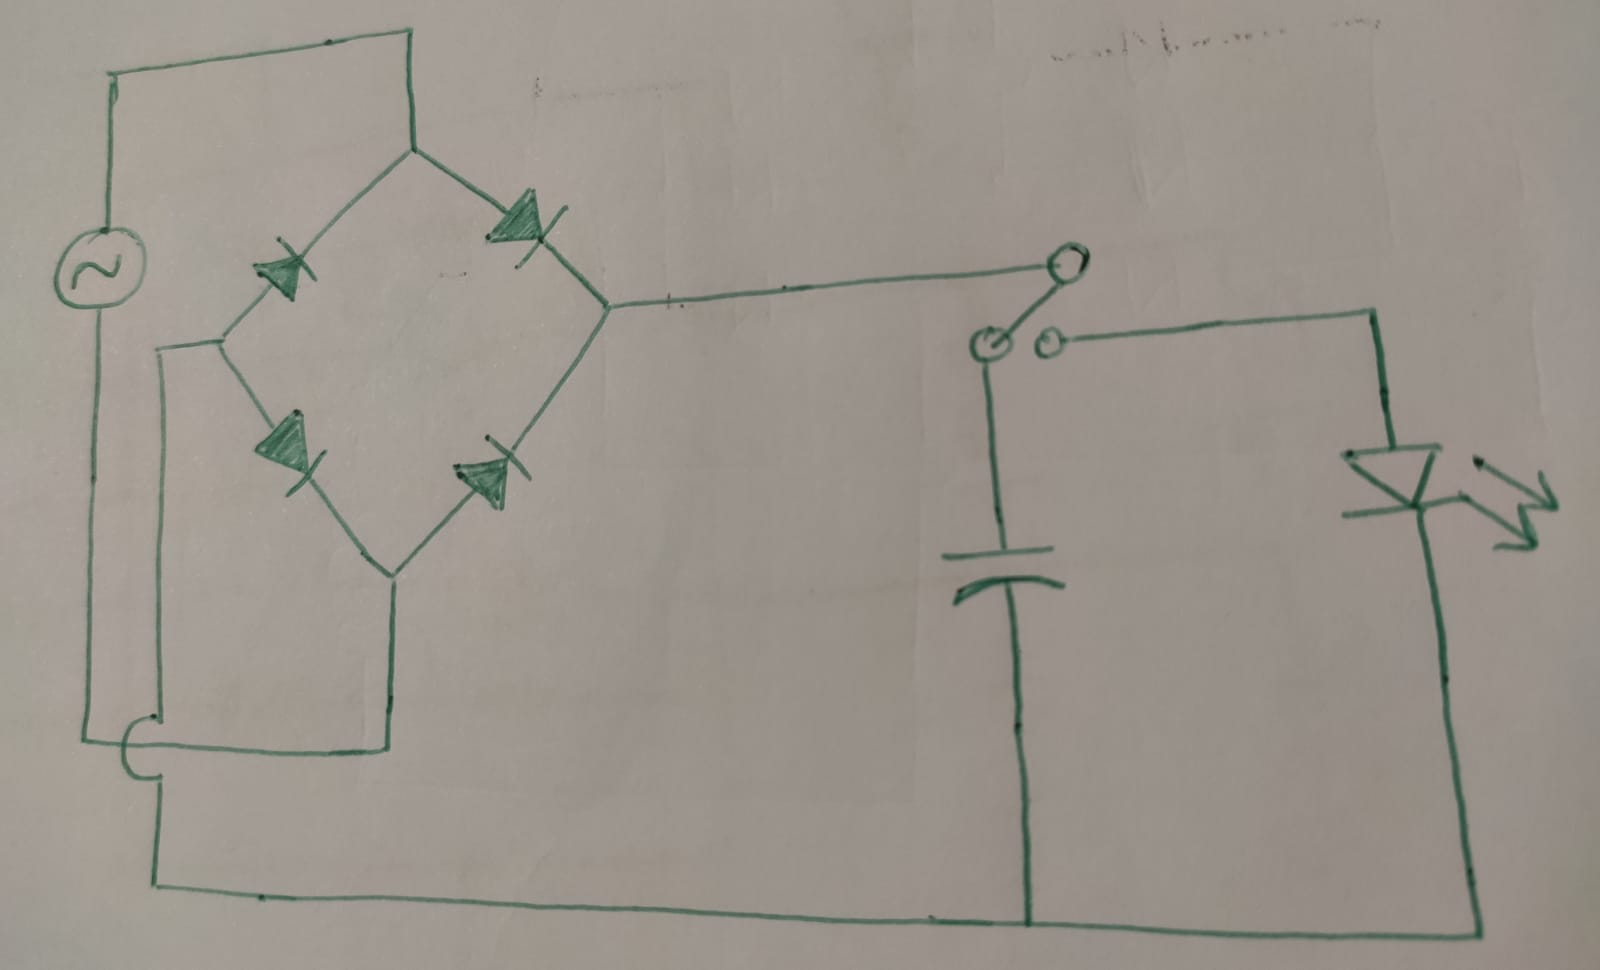capacitor.unpolarized: (933, 538, 1070, 607)
crossover: (117, 710, 170, 785)
diode: (485, 186, 567, 270), (251, 409, 327, 498), (453, 436, 533, 508), (251, 235, 320, 304)
diode.light_emitting: (1338, 439, 1562, 552)
junction: (1355, 297, 1390, 334), (1461, 917, 1495, 952), (1013, 907, 1045, 941), (99, 64, 128, 89), (400, 139, 429, 165), (397, 21, 422, 43), (381, 567, 406, 590), (210, 332, 233, 356), (149, 340, 171, 364), (597, 297, 619, 321), (376, 737, 399, 761), (143, 872, 167, 895), (75, 729, 95, 749)
switch: (969, 237, 1091, 367)
voltage.dc_ac: (50, 223, 151, 312)
